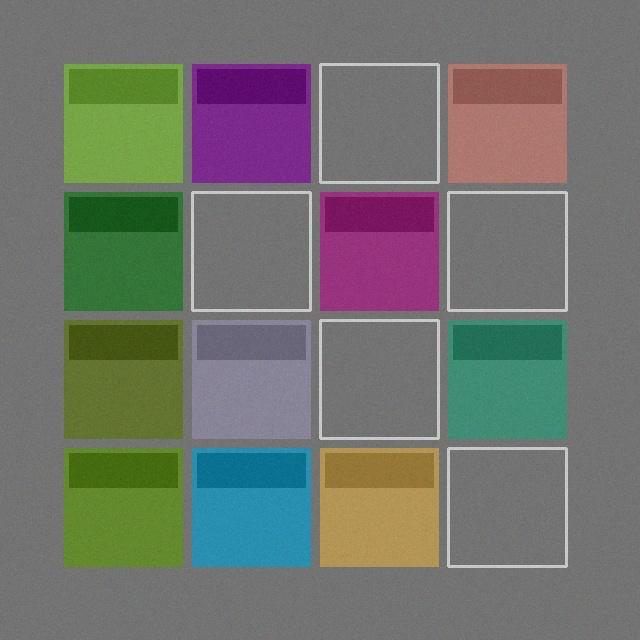space-empty: (320, 64, 438, 182), (192, 192, 310, 310), (448, 192, 566, 310), (320, 320, 438, 438), (448, 448, 566, 566)
space-occupied: (64, 64, 182, 182), (192, 64, 310, 182), (448, 64, 566, 182), (64, 192, 182, 310), (320, 192, 438, 310), (64, 320, 182, 438), (192, 320, 310, 438), (448, 320, 566, 438), (64, 448, 182, 566), (192, 448, 310, 566), (320, 448, 438, 566)
